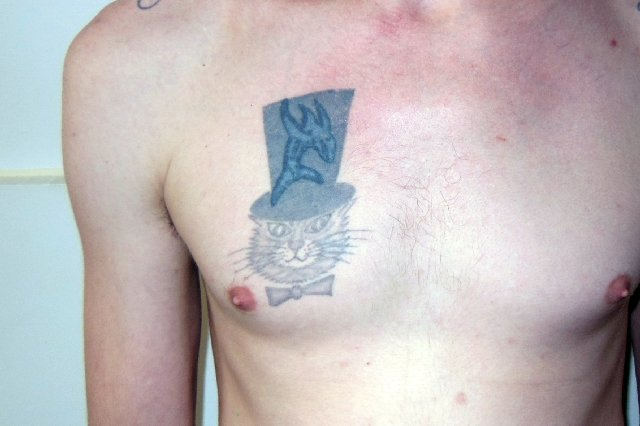tatu8_kot: (247, 202, 350, 302)
